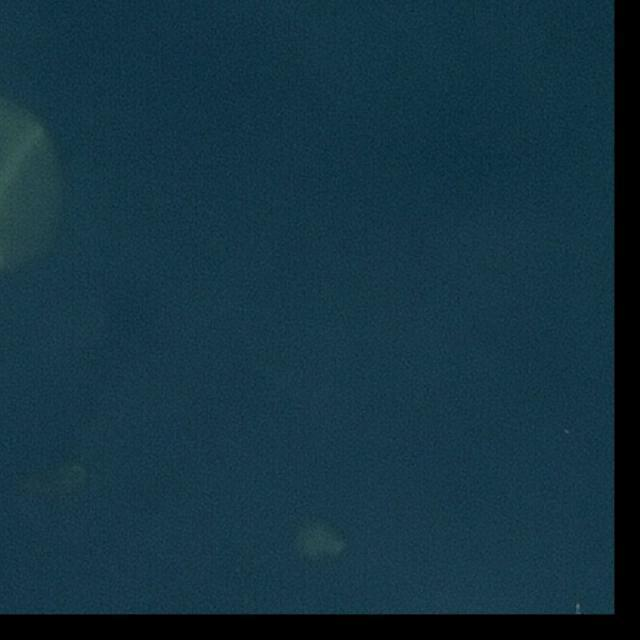ship: (562, 427, 573, 438), (575, 603, 580, 610)
